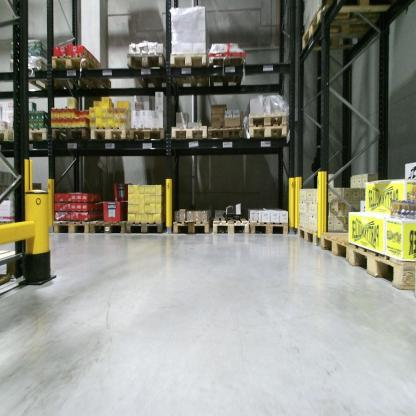pallets: (297, 224, 416, 292), (119, 48, 210, 77), (51, 219, 166, 235), (88, 125, 166, 148), (166, 124, 244, 146), (27, 125, 93, 147), (244, 113, 291, 143), (173, 222, 252, 239), (250, 222, 286, 234)
